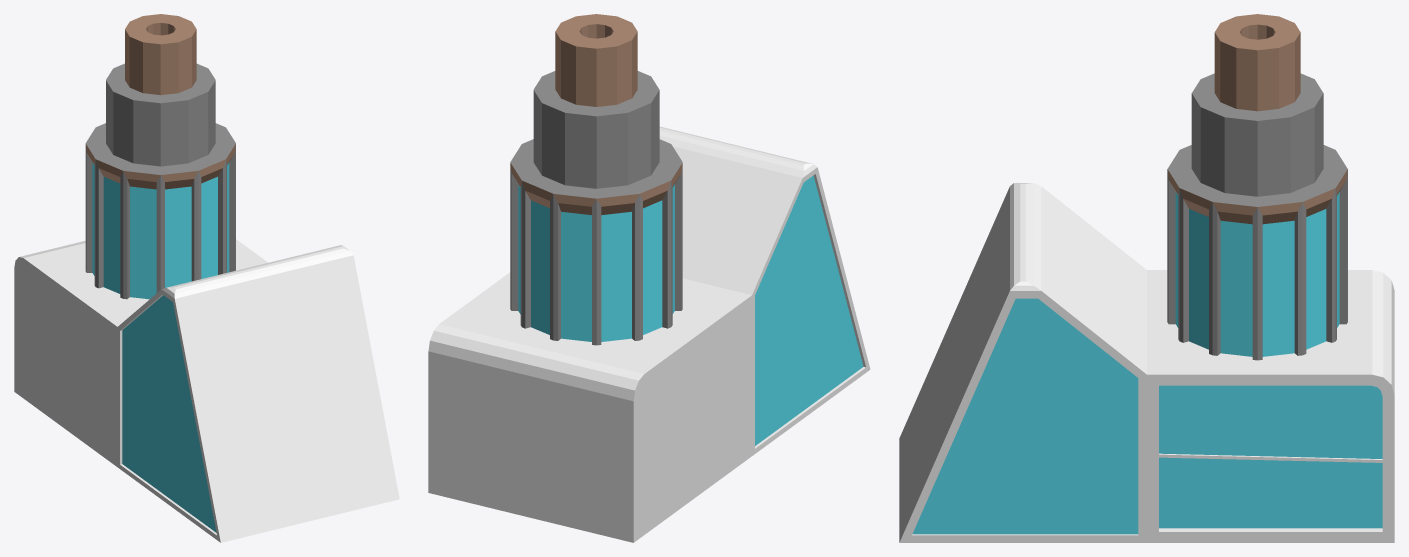
File: Building1.fbx
The picture shows the model from 3 angles, left to right: view 1: azimuth 30°, elevation 25°; view 2: azimuth 150°, elevation 25°; view 3: azimuth 270°, elevation 25°; orthographic projection. The views are drawn at different scales.
Visible parts, largest first — view 1: Object1; view 2: Object1; view 3: Object1.
Part boxes in pixels (box(x1,y1,x2,y2)): Object1: box(14, 14, 399, 542); Object1: box(428, 14, 870, 542); Object1: box(899, 14, 1394, 542).
Size of the model in its own units: 200 by 409 by 400.
